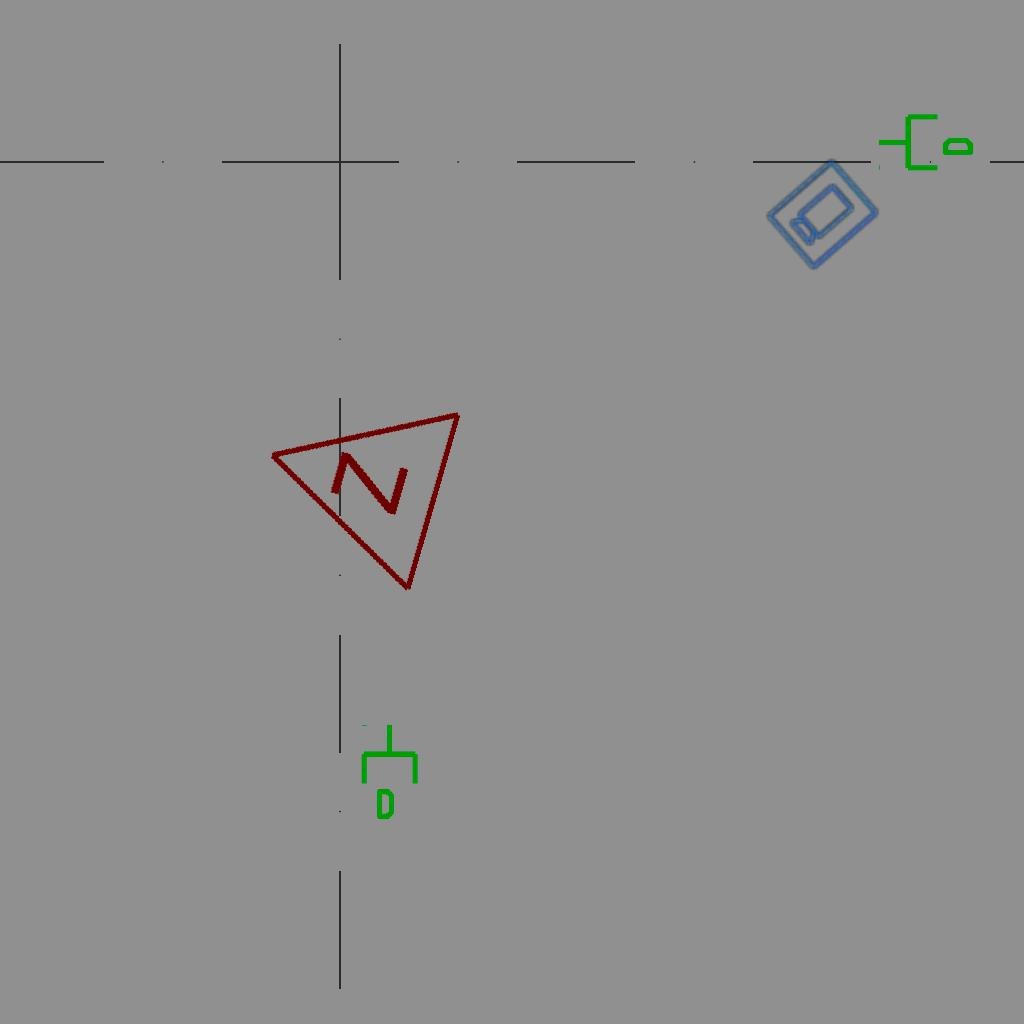Datenanschluss_einfach: (876, 106, 976, 175), (357, 722, 426, 822)
KFO_Kamera_mit_Festobjektiv: (762, 154, 883, 273)
Zimmersignalleuchte: (229, 359, 477, 603)
